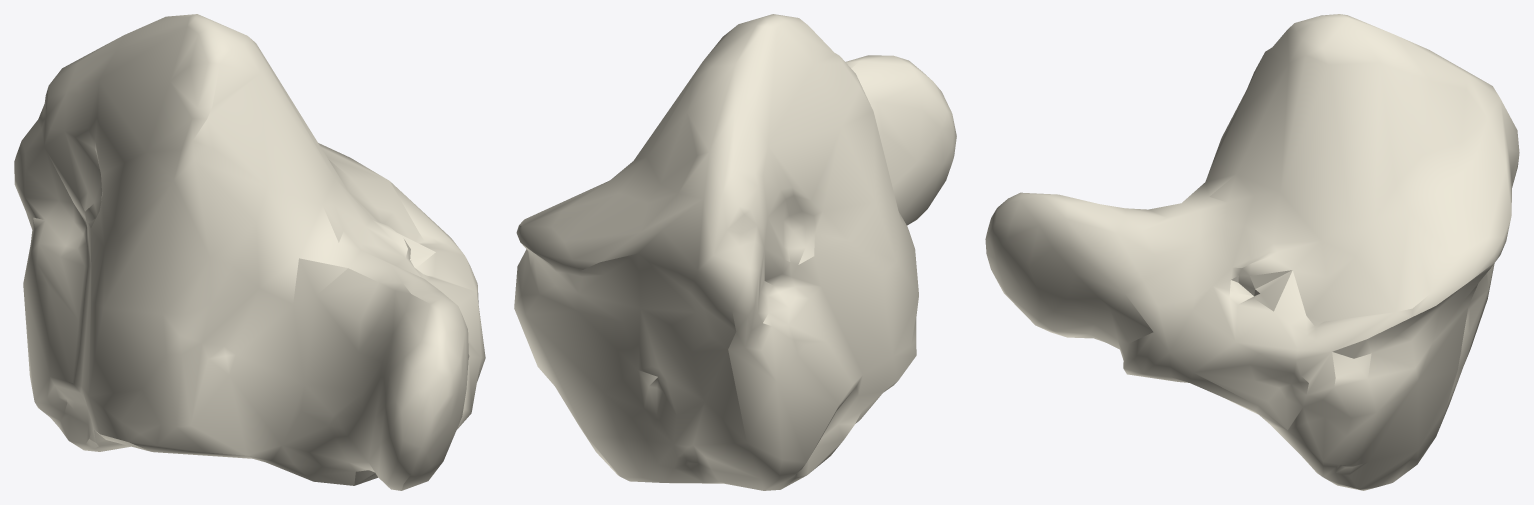
Rendered from fma24448.glb.
3 views of the same model, side by side, from view 1: azimuth 30°, elevation 25°; view 2: azimuth 150°, elevation 25°; view 3: azimuth 270°, elevation 25° (orthographic). The views are drawn at different scales.
Visible parts, largest first — view 1: FMA24448; view 2: FMA24448; view 3: FMA24448.
Part boxes in pixels (x1,y1,x2,y2): FMA24448: (14, 14, 485, 490); FMA24448: (514, 14, 956, 490); FMA24448: (985, 14, 1519, 490).
Size of the model in its own units: 0.0159 by 0.0196 by 0.0228.
